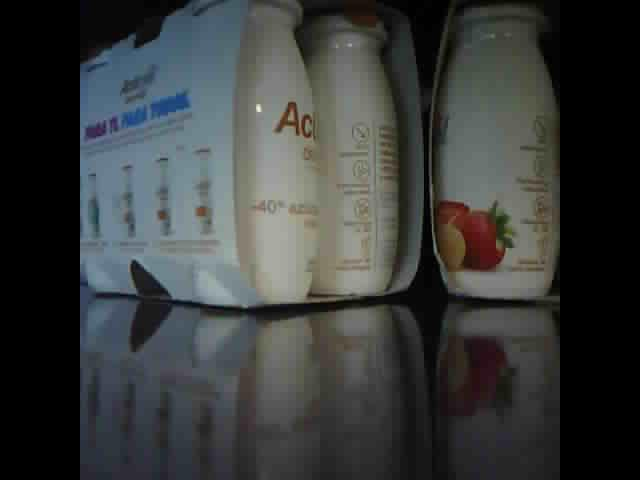actimel: (81, 1, 429, 311), (432, 1, 561, 305)
